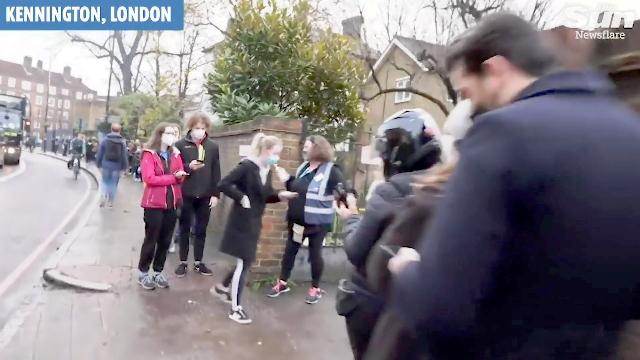berdiri: (212, 124, 276, 328), (135, 120, 181, 288), (176, 108, 218, 282)
